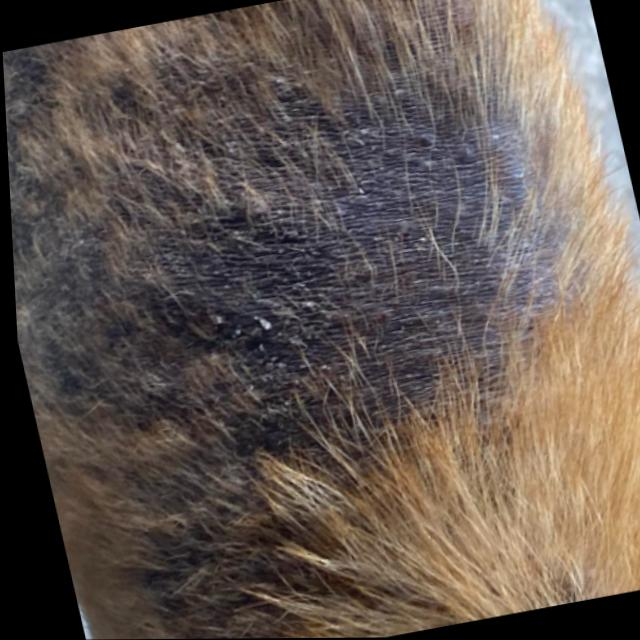demodicosis: (123, 87, 538, 467)
